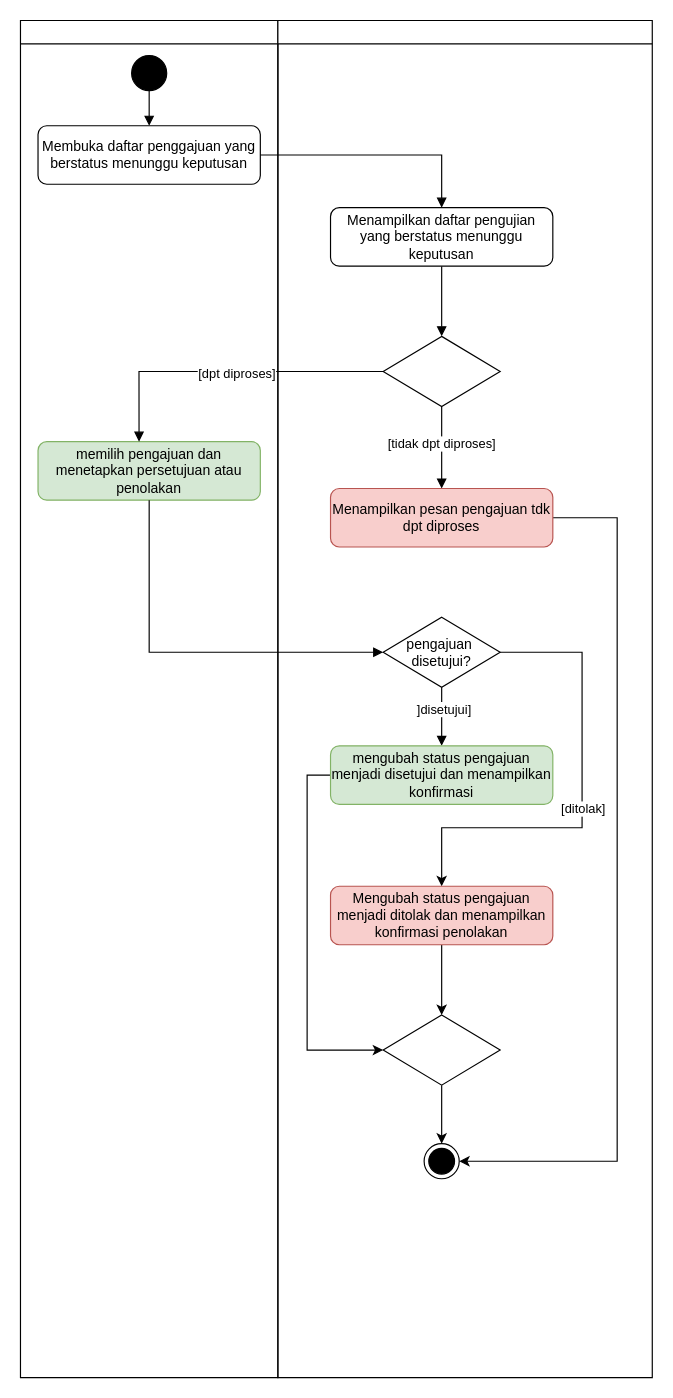
The diagram is 673 pixels wide and 1398 high, and some of its shapes have lost their labels. Each missing label, with the box of its shape:
Pengajuan dpt diproses?: (382, 335, 500, 407)
Petugas Lab: (19, 19, 278, 1378)
Sistem: (277, 19, 652, 1378)
